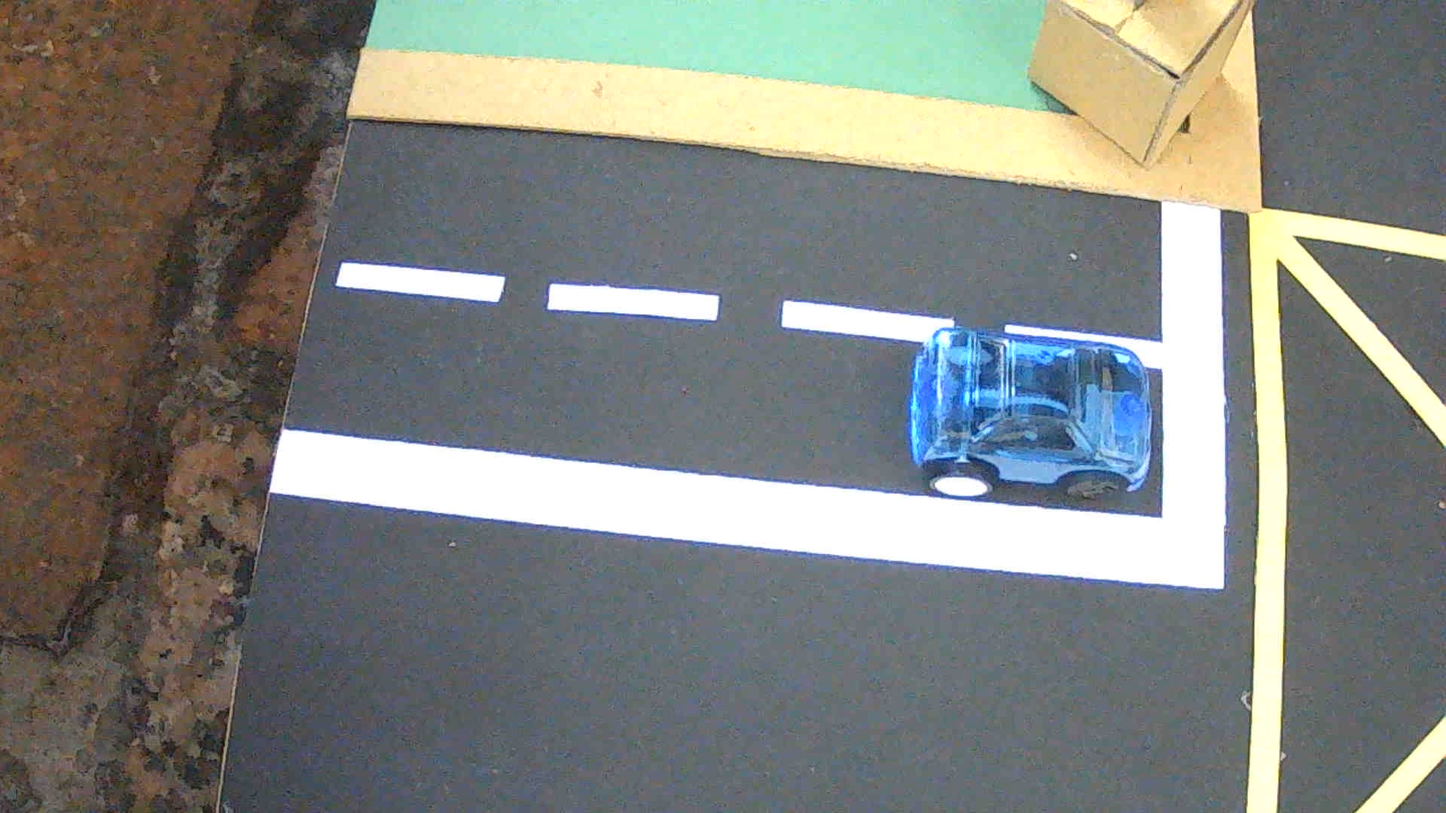Mobil biru: (909, 327, 1153, 498)
